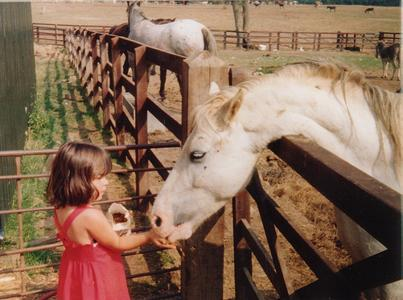person: (43, 138, 172, 300)
